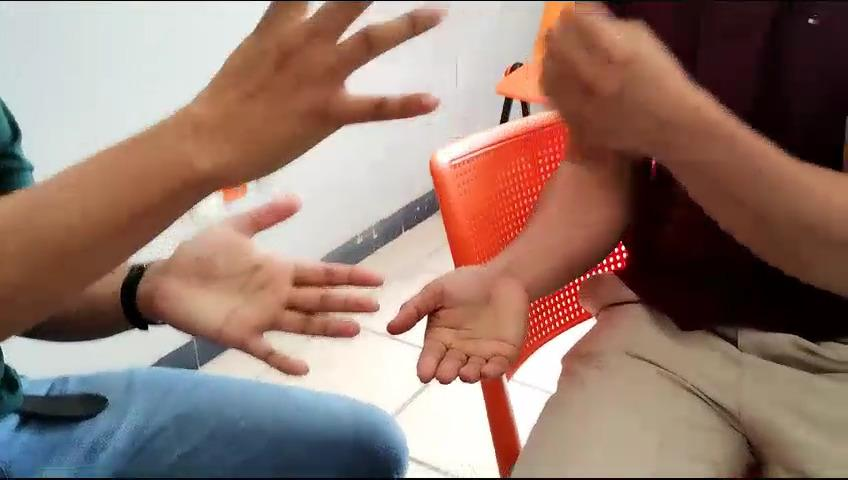Paper: (132, 197, 387, 425), (176, 1, 460, 188), (391, 249, 582, 429)
Stone: (514, 0, 696, 209)
